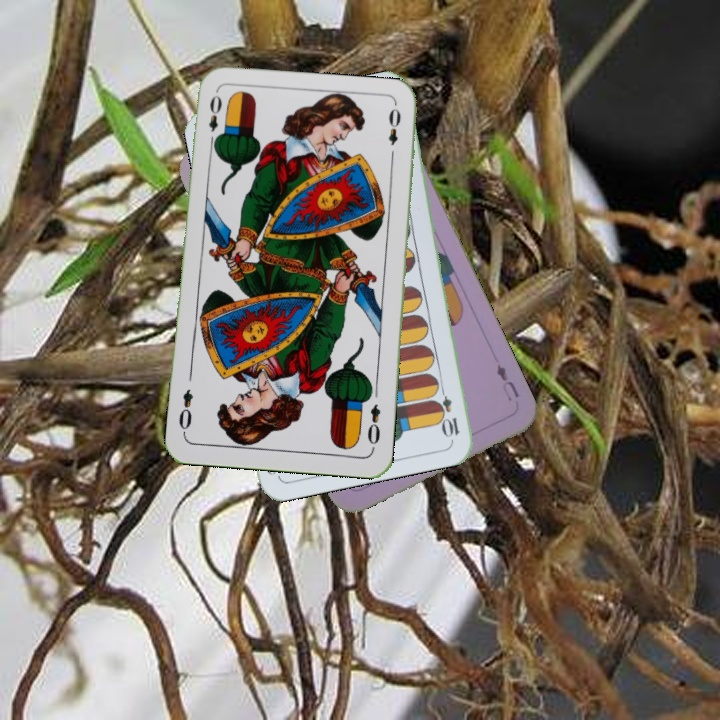E10: (434, 381, 462, 440)
EO: (204, 91, 224, 149), (363, 400, 384, 452)
EU: (492, 360, 522, 404)
